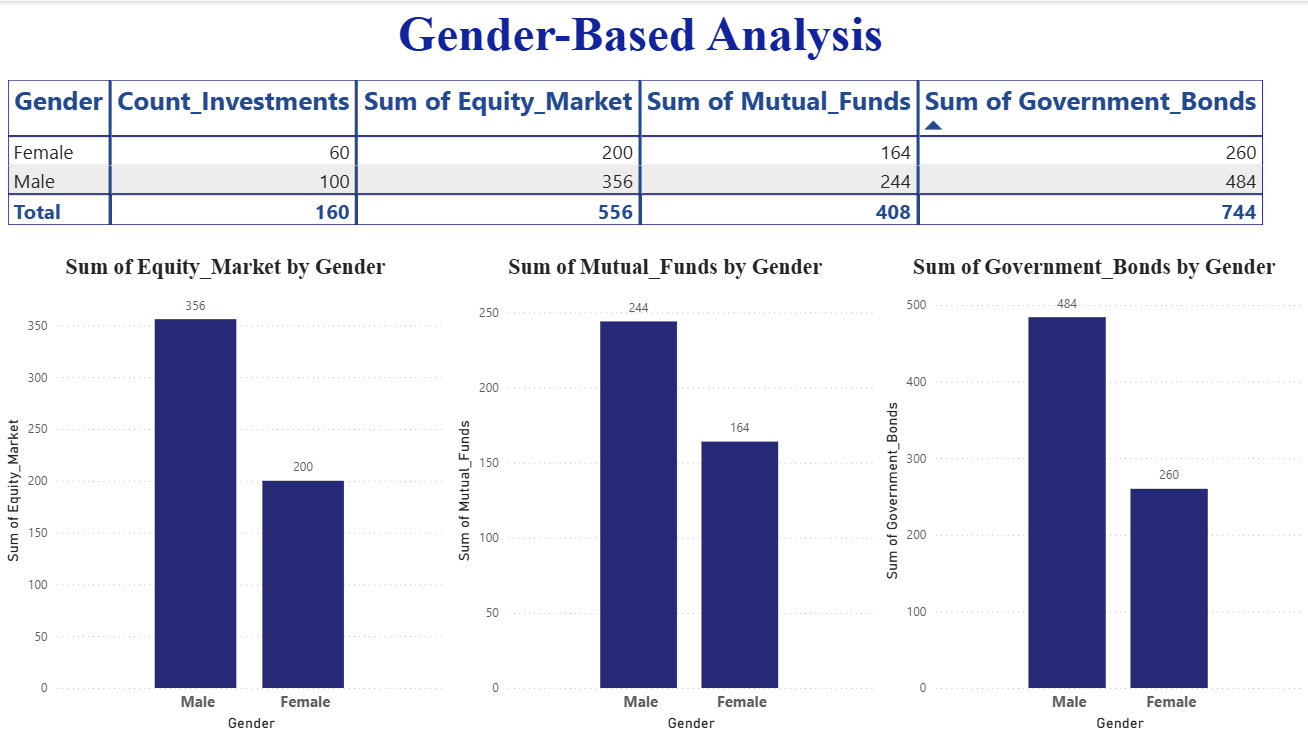

The dashboard page shown, as its layout file describes it:
{"tool":"powerbi","page":{"name":"Task 2 Visuals","canvas":[1280,720],"ordinal":1},"visuals":[{"type":"columnChart","fields":{"Category":["Data_set 2.gender"],"Y":["Sum(Data_set 2.Equity_Market)"]},"box":[0,247.9,440.8,471.8],"z":0},{"type":"columnChart","fields":{"Category":["Data_set 2.gender"],"Y":["Sum(Data_set 2.Mutual_Funds)"]},"box":[440.8,247.9,418.3,471.8],"z":1000},{"type":"columnChart","fields":{"Category":["Data_set 2.gender"],"Y":["Sum(Data_set 2.Government_Bonds)"]},"box":[859.2,247.9,421.1,471.8],"z":2000},{"type":"tableEx","fields":{"Values":["Data_set 2.gender","Data_set 2.Count_Investments","Sum(Data_set 2.Equity_Market)","Sum(Data_set 2.Mutual_Funds)","Sum(Data_set 2.Government_Bonds)"]},"box":[1.4,71.8,1278.9,160.6],"z":3000},{"type":"textbox","box":[363.4,0,526.8,71.8],"z":4000}]}

Visuals, with their boxes in screenshot pixels (x1, y1, x2, y2), scaled from the page's 1280x720 canvas onto the 1308x730 screenshot:
columnChart - Data_set 2.gender x Sum(Data_set 2.Equity_Market): locate(0, 251, 450, 729)
columnChart - Data_set 2.gender x Sum(Data_set 2.Mutual_Funds): locate(450, 251, 878, 729)
columnChart - Data_set 2.gender x Sum(Data_set 2.Government_Bonds): locate(878, 251, 1307, 729)
tableEx - Data_set 2.gender x Data_set 2.Count_Investments: locate(1, 73, 1307, 236)
textbox: locate(371, 0, 910, 73)
